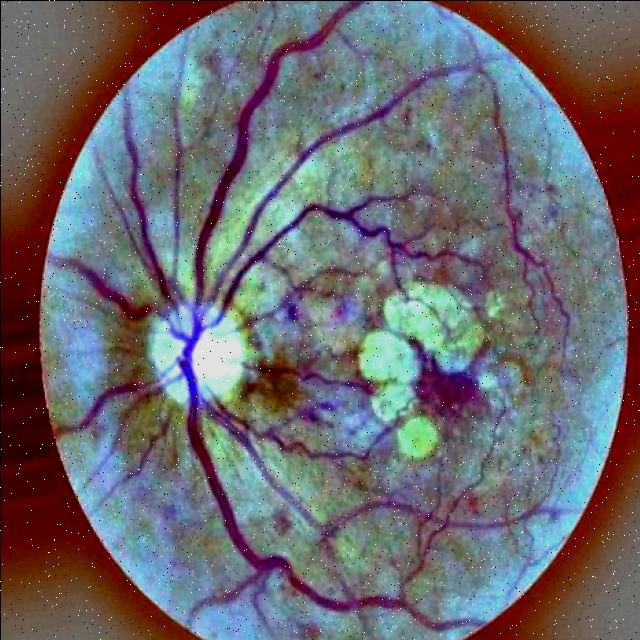Macula: (408, 355, 486, 415)
Nerves: (62, 17, 464, 350), (169, 367, 464, 625)
Optic Disk: (140, 296, 256, 422)
